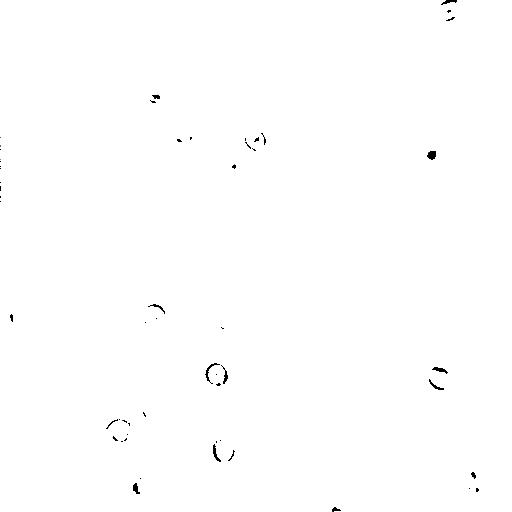micro-algae: (67, 21, 119, 74), (455, 456, 493, 503), (413, 132, 451, 171), (165, 118, 202, 152), (123, 468, 159, 501), (217, 153, 249, 186), (105, 418, 136, 449), (137, 301, 168, 330), (212, 431, 235, 464), (139, 393, 164, 420), (205, 361, 230, 387), (9, 302, 33, 329), (427, 364, 451, 390), (435, 0, 463, 22), (243, 127, 267, 152), (331, 502, 356, 511)
